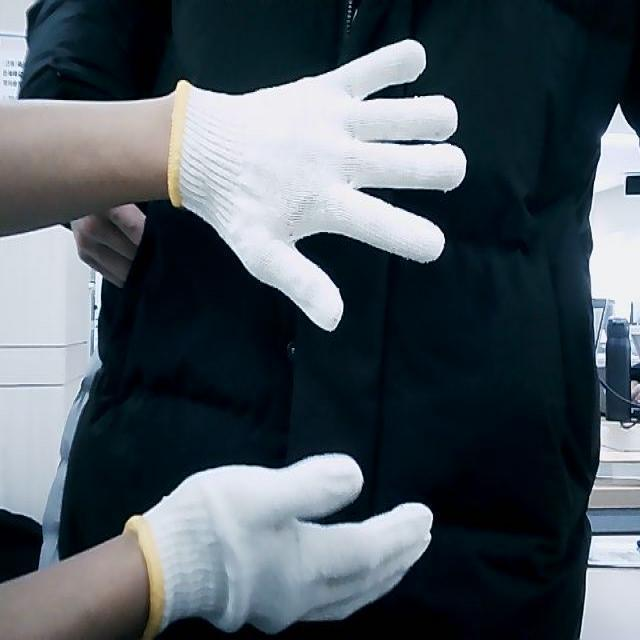gloves: (170, 36, 468, 332), (123, 452, 434, 640)
